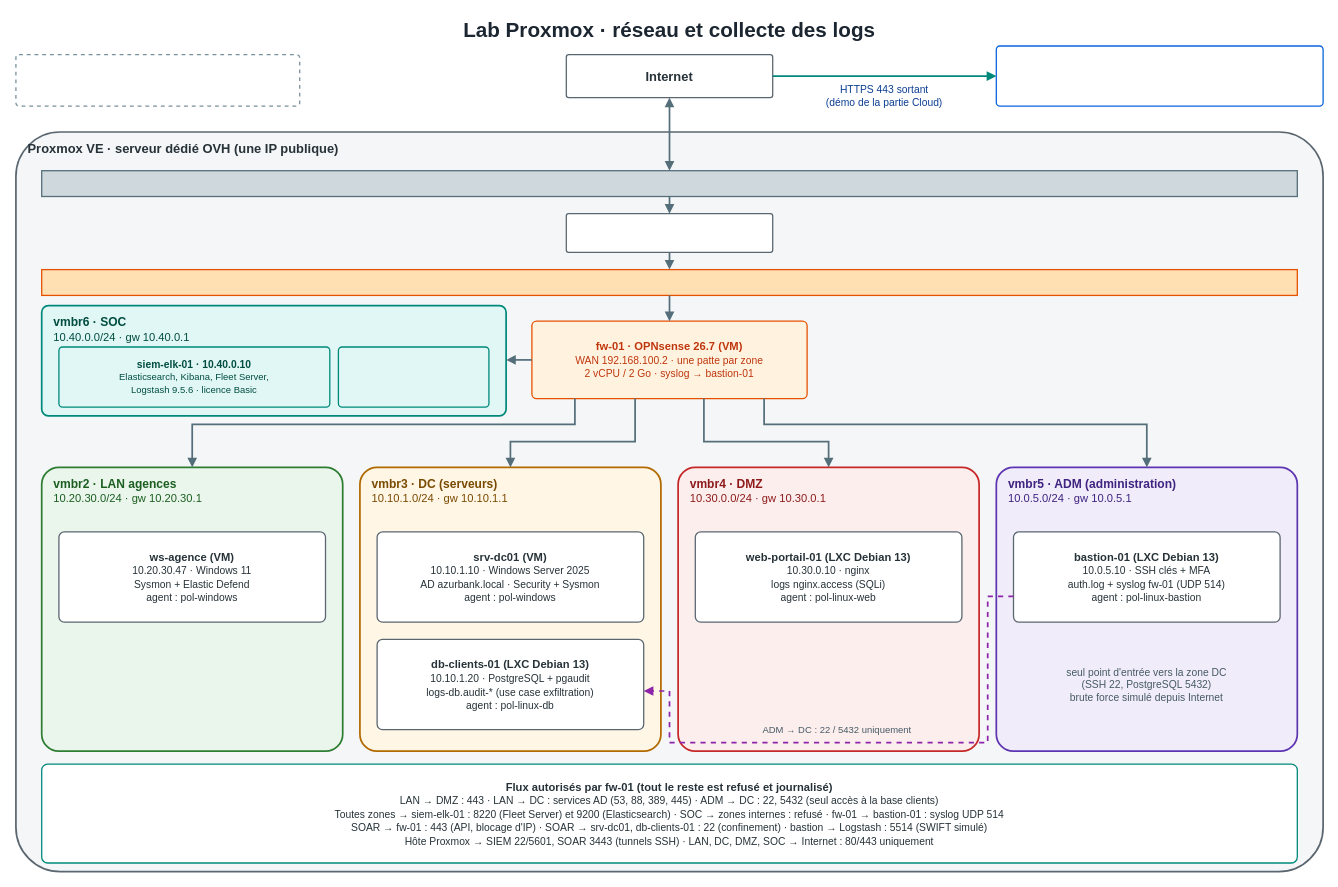
Some shapes in this 1338 by 887 pixel diagram are drawn without their labels. The shapes that lost their labels are listed below. From the top down, each one's centre as x and y in pixels, then its label:
At pixel 157 80: "Administration NetBird → 100.106.21.10 (:8006, SSH)".
At pixel 1159 75: "Elastic Cloud Serverless (partie Cloud) Fleet + Elasticsearch + Kibana Security".
At pixel 669 183: "vmbr0 · interface publique OVH".
At pixel 669 233: "Hôte pve : routage + NAT".
At pixel 669 282: "vmbr1 · 192.168.100.0/24 · réseau NAT de l'hôte (passerelle .1)".
At pixel 413 376: "soar-shuffle-01 10.40.0.20 Shuffle 2.3 (SOAR)".
